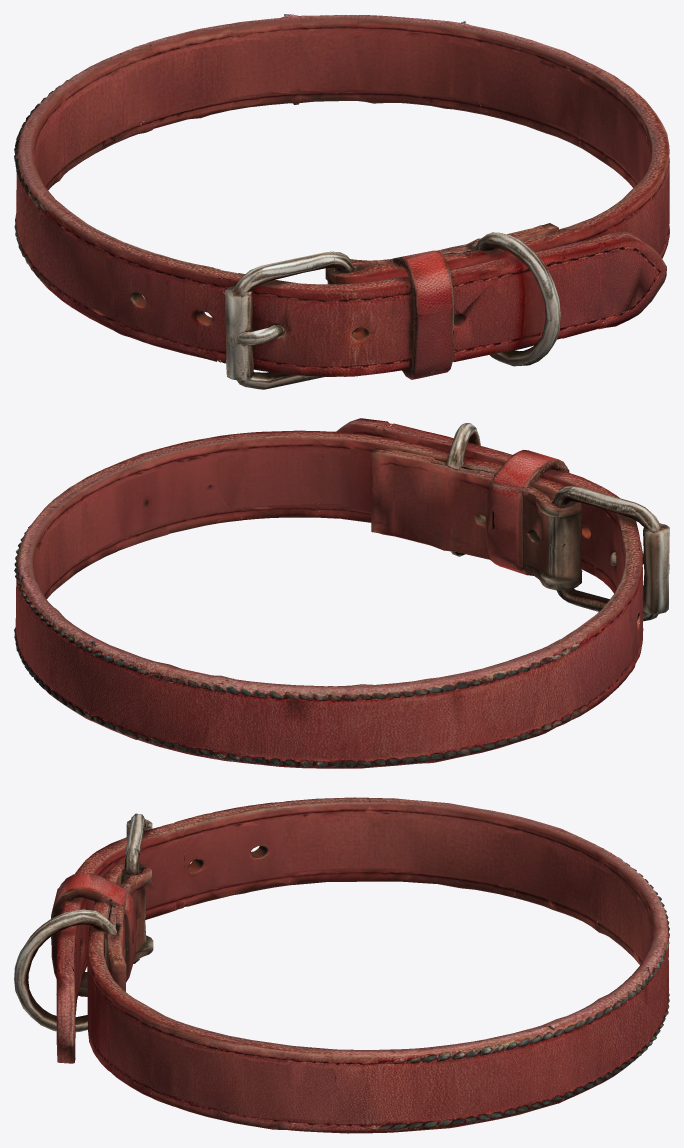
File: collier.glb
The picture shows the model from 3 angles, top to bottom: view 1: azimuth 30°, elevation 25°; view 2: azimuth 150°, elevation 25°; view 3: azimuth 270°, elevation 25°; orthographic projection. The views are drawn at different scales.
Visible parts, largest first — view 1: tripo_part_0, tripo_part_3, tripo_part_2, tripo_part_14, tripo_part_15, tripo_part_5, tripo_part_8, tripo_part_1, tripo_part_10, tripo_part_4, tripo_part_7, tripo_part_9 (+5 smaller); view 2: tripo_part_0, tripo_part_1, tripo_part_4, tripo_part_15, tripo_part_3, tripo_part_14, tripo_part_6, tripo_part_8, tripo_part_2, tripo_part_9, tripo_part_12, tripo_part_5 (+4 smaller); view 3: tripo_part_0, tripo_part_3, tripo_part_4, tripo_part_1, tripo_part_14, tripo_part_2, tripo_part_7, tripo_part_8, tripo_part_15, tripo_part_5, tripo_part_10, tripo_part_6 (+2 smaller).
Part boxes in pixels (box(x1,y1,x2,y2)): tripo_part_0: box(14, 46, 237, 363); tripo_part_3: box(450, 21, 638, 182); tripo_part_2: box(237, 273, 417, 376); tripo_part_14: box(298, 15, 453, 109); tripo_part_15: box(143, 14, 303, 128); tripo_part_5: box(415, 239, 604, 362); tripo_part_8: box(392, 250, 454, 379); tripo_part_1: box(437, 178, 659, 282); tripo_part_10: box(593, 231, 666, 329); tripo_part_4: box(618, 93, 669, 258); tripo_part_7: box(474, 232, 560, 366); tripo_part_9: box(234, 251, 358, 389); tripo_part_0: box(210, 532, 643, 768); tripo_part_1: box(239, 430, 494, 559); tripo_part_4: box(77, 433, 242, 562); tripo_part_15: box(84, 637, 219, 759); tripo_part_3: box(14, 483, 94, 658); tripo_part_14: box(20, 580, 92, 720); tripo_part_6: box(518, 477, 582, 585); tripo_part_8: box(485, 450, 569, 575); tripo_part_2: box(543, 469, 638, 611); tripo_part_9: box(550, 486, 661, 621); tripo_part_12: box(643, 523, 669, 614); tripo_part_5: box(382, 423, 543, 477); tripo_part_0: box(159, 797, 666, 965); tripo_part_3: box(321, 1022, 566, 1133); tripo_part_4: box(151, 1016, 340, 1132); tripo_part_1: box(87, 905, 165, 1098); tripo_part_14: box(548, 973, 651, 1103); tripo_part_2: box(70, 827, 176, 968); tripo_part_7: box(14, 909, 116, 1032); tripo_part_8: box(51, 873, 136, 996); tripo_part_15: box(632, 908, 669, 1043); tripo_part_5: box(56, 897, 86, 1044); tripo_part_10: box(56, 969, 75, 1063); tripo_part_6: box(98, 863, 151, 962).
Bounding box in the file's own units: 0.9172 × 0.1987 × 0.98.
25 materials, 25 textured.
